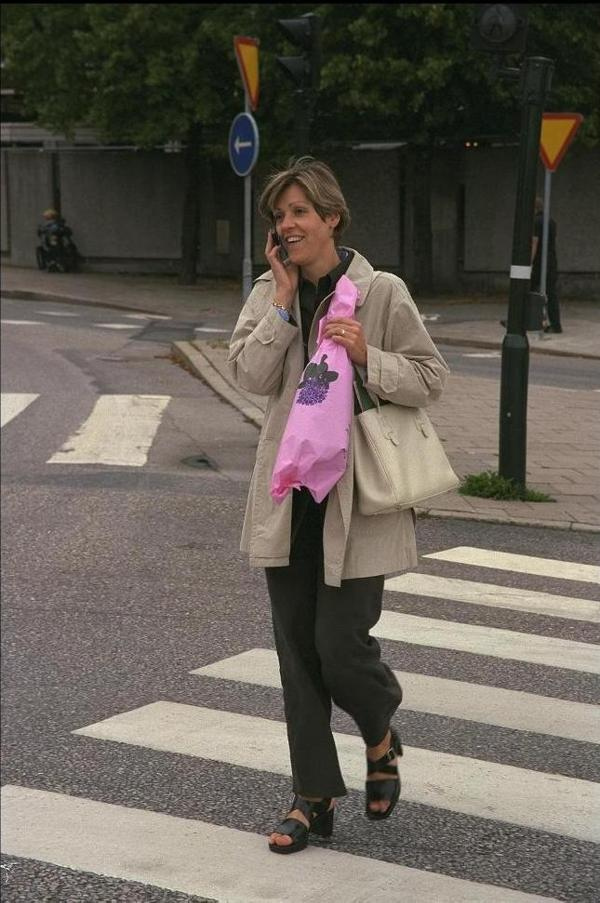person: (228, 153, 461, 854)
